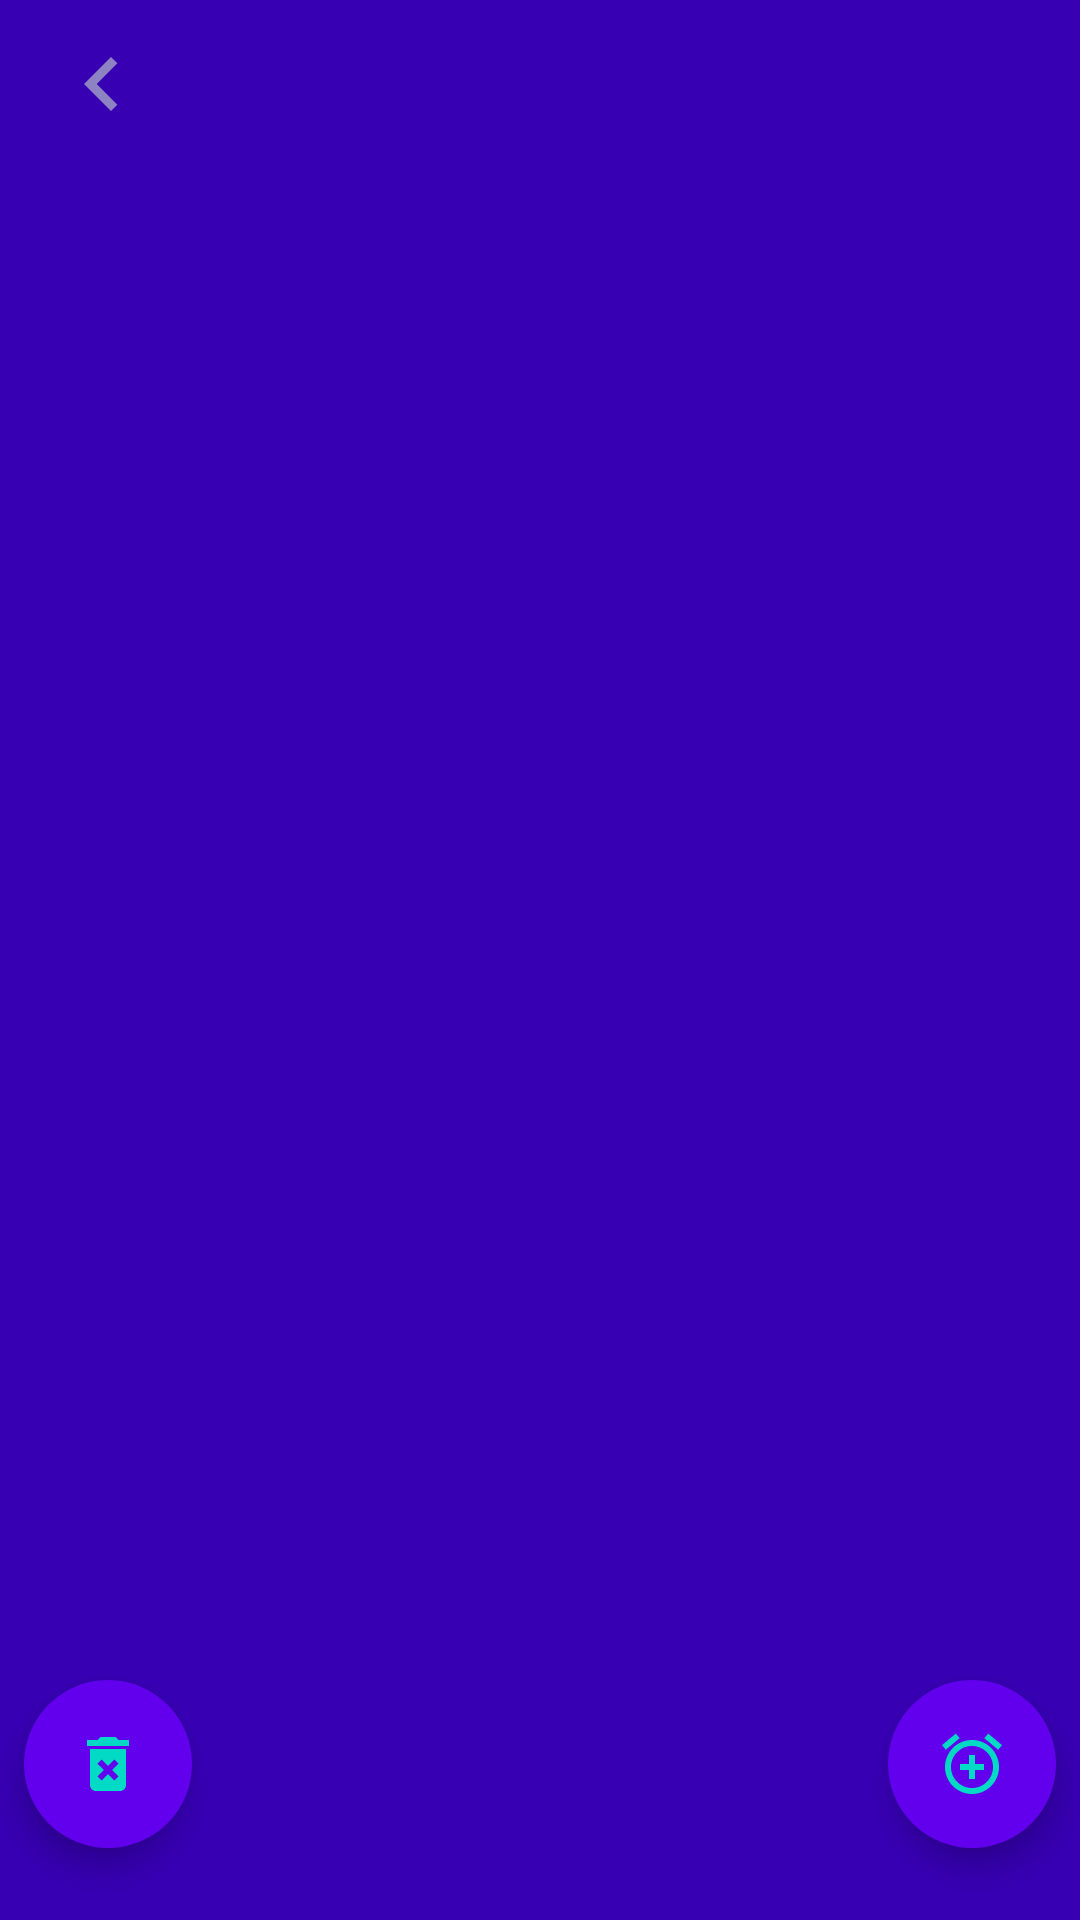

Icons on this 1080 x 1920 Android screen, each with its box as (x1, y1, x2, y2):
add alarm clock: (888, 1680, 1056, 1848)
turn delete alarm clocks mode: (24, 1680, 192, 1848)
